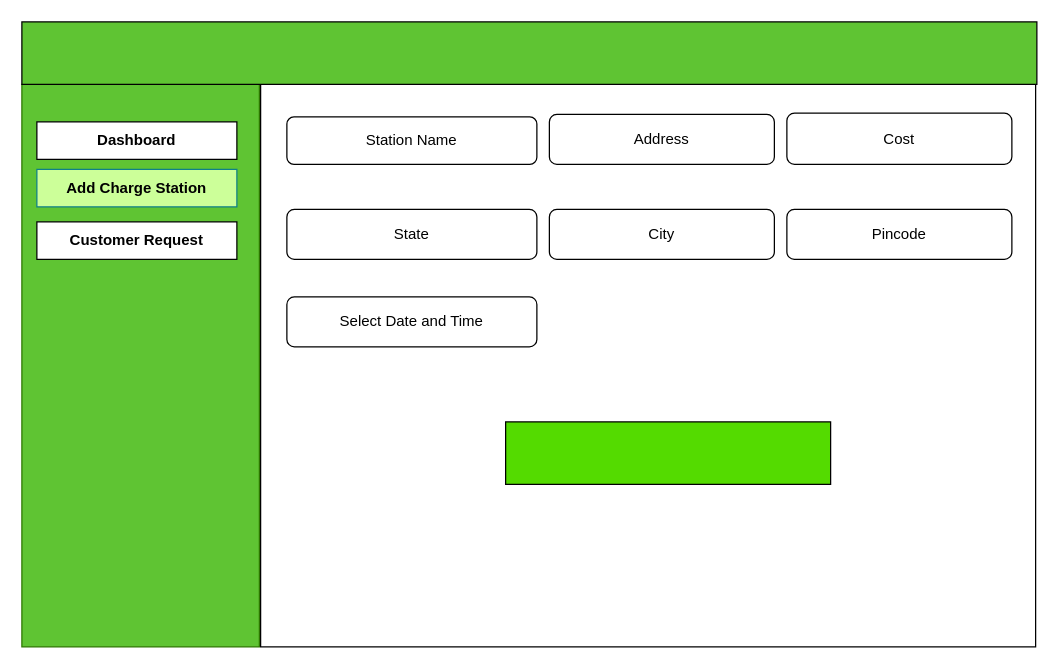
Some shapes in this 1059 by 669 pixel diagram are drawn without their labels. The shapes that lost their labels are listed below. From the top down, each one's centre as x and y in pixels, then its label:
At (x=529, y=52): "Book My Charge Station".
At (x=667, y=452): "ADD STATION".
